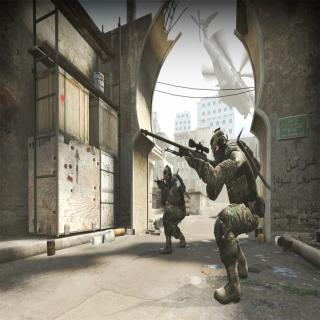CT-Body: (196, 124, 259, 307), (156, 162, 186, 256)
CT-Head: (210, 127, 230, 163), (162, 163, 174, 186)
